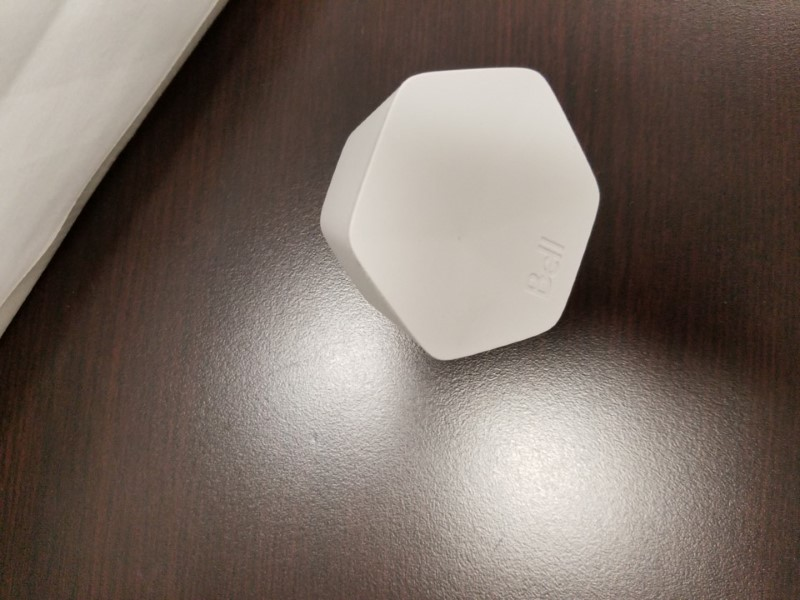pod: (317, 59, 607, 370)
